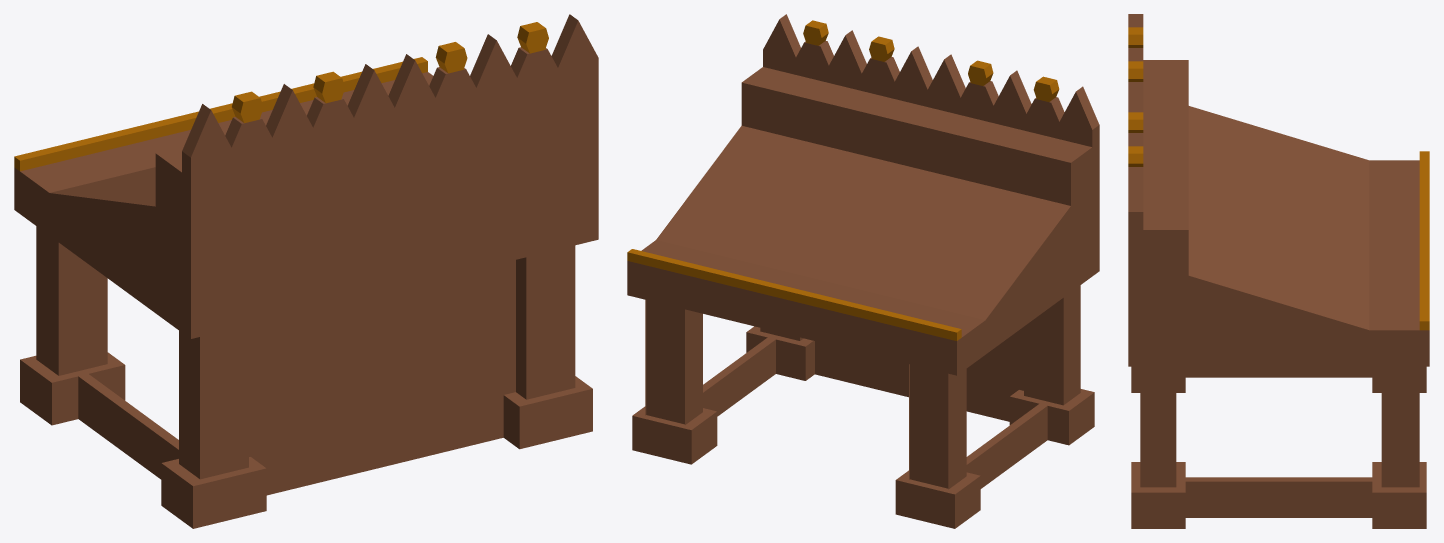
File: Desk.fbx
The picture shows the model from 3 angles, left to right: view 1: azimuth 30°, elevation 25°; view 2: azimuth 150°, elevation 25°; view 3: azimuth 270°, elevation 25°; orthographic projection. The views are drawn at different scales.
Parts seen in each view (by area): view 1: Cube; view 2: Cube; view 3: Cube.
Boxes of the visible parts, x1=… form: Cube: x1=14, y1=14, x2=598, y2=528; Cube: x1=627, y1=14, x2=1099, y2=528; Cube: x1=1128, y1=14, x2=1429, y2=528.
Size of the model in its own units: 200 by 195 by 150.
